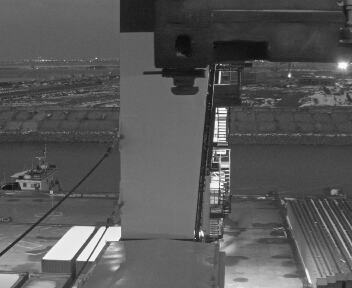twist_lock_1: (154, 59, 212, 102)
